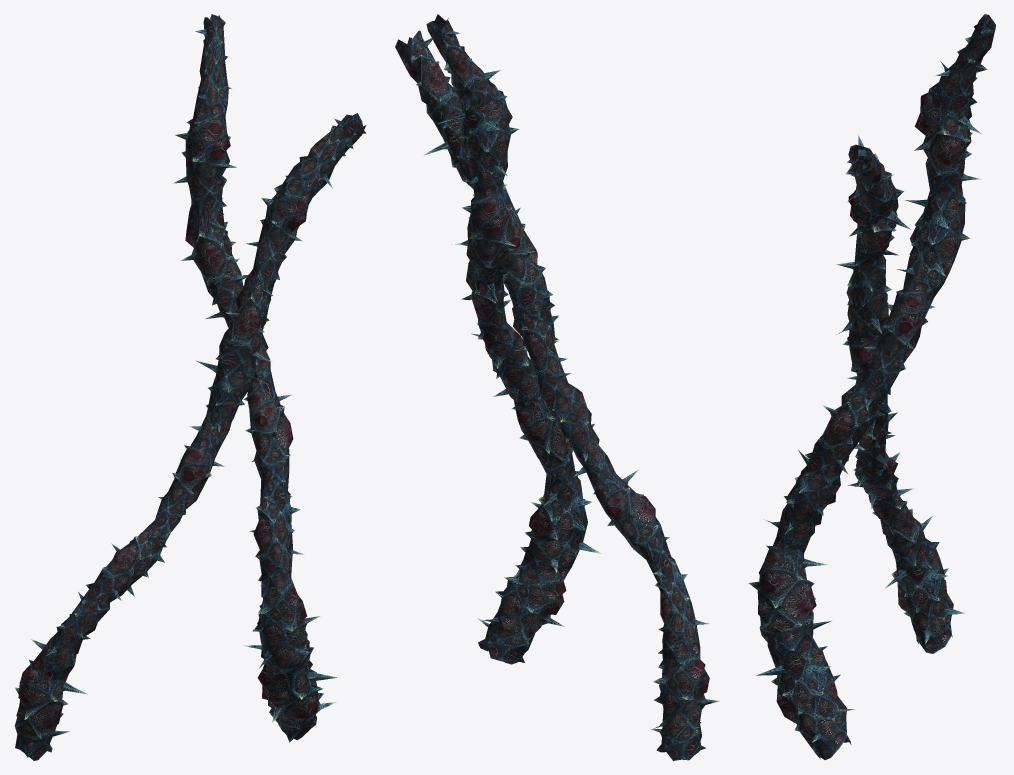
The model's file is 02_03_Makaijyu_07.fbx.
The picture shows the model from 3 angles, left to right: view 1: azimuth 30°, elevation 25°; view 2: azimuth 150°, elevation 25°; view 3: azimuth 270°, elevation 25°; orthographic projection. The views are drawn at different scales.
Parts seen in each view (by area): view 1: LODGroup_3_MainMesh_1_SubMesh_1; view 2: LODGroup_3_MainMesh_1_SubMesh_1; view 3: LODGroup_3_MainMesh_1_SubMesh_1.
Part boxes in pixels (x1,y1,x2,y2): LODGroup_3_MainMesh_1_SubMesh_1: [14, 14, 366, 760]; LODGroup_3_MainMesh_1_SubMesh_1: [395, 14, 719, 760]; LODGroup_3_MainMesh_1_SubMesh_1: [748, 14, 995, 759].
Bounding box in the file's own units: 734 × 1461 × 451.
